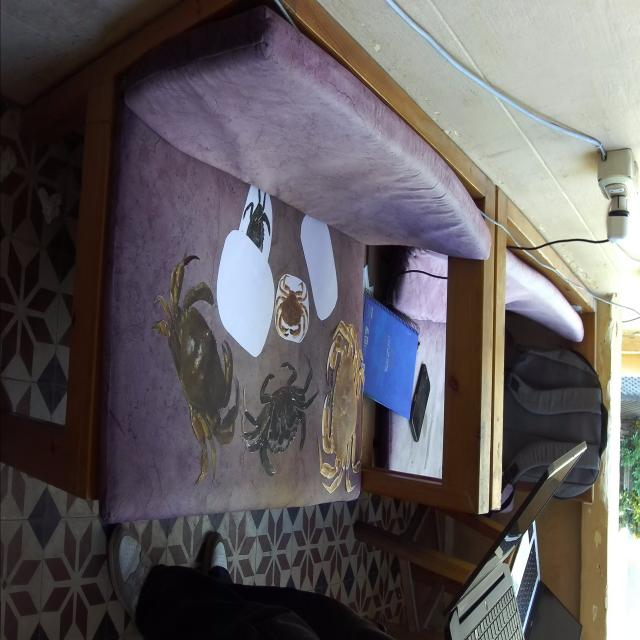European_Green_Crab: (233, 346, 330, 491), (235, 174, 278, 279)
